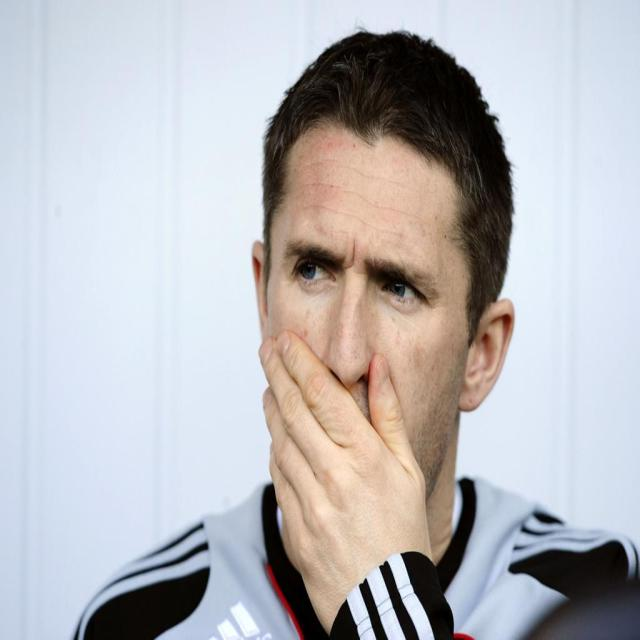Face: (265, 39, 510, 510)
